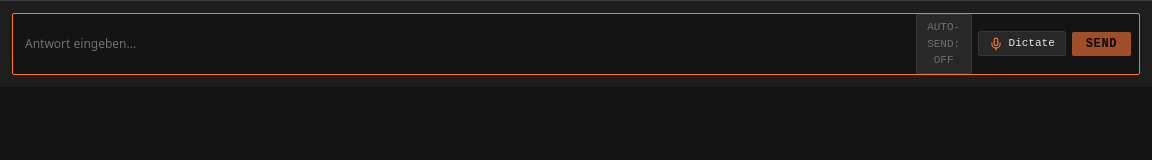
Test: ChatInput Auto-Send & VAD Silence Detection (Plan 037) › renders AUTO-SEND: OFF by default and toggles to ON on click, persisting in localStorage
Click to toggle ON
Step 1. Click the button "AUTO-SEND: OFF" → (944, 44), box [916, 14, 972, 74]
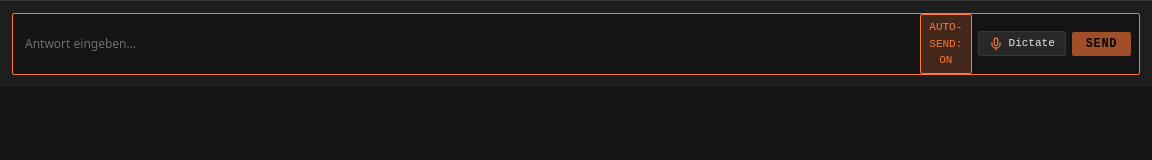
Check: the button "AUTO-SEND: ON" is shown
Click to toggle OFF
Step 2. Click the button "AUTO-SEND: ON" → (946, 44), box [920, 14, 972, 74]
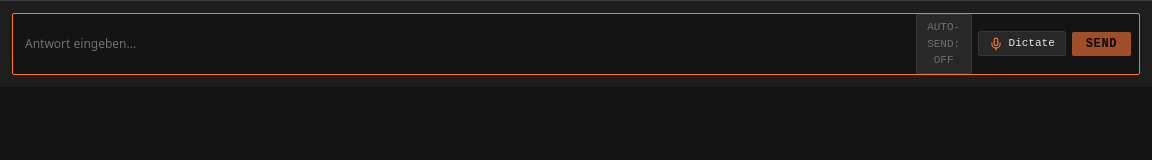
Check: the button "AUTO-SEND: OFF" is shown, box [916, 14, 972, 74]
